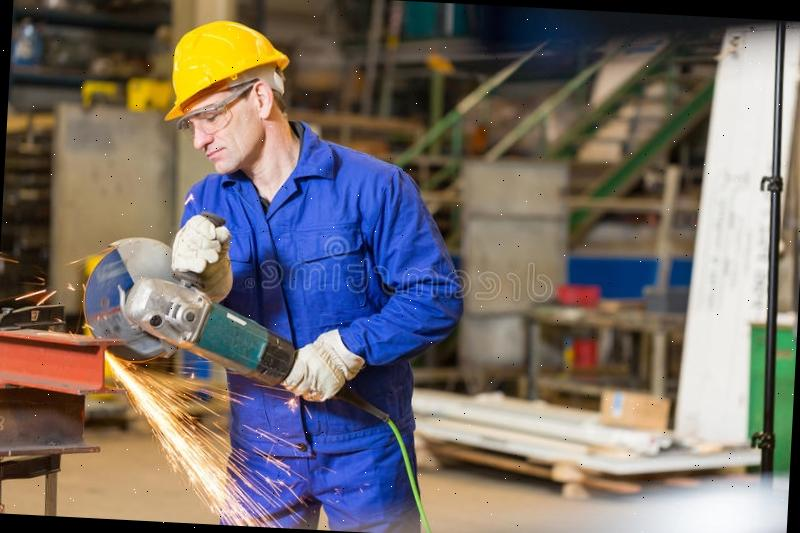helmet: (164, 18, 292, 127)
wear: (197, 176, 433, 446)
